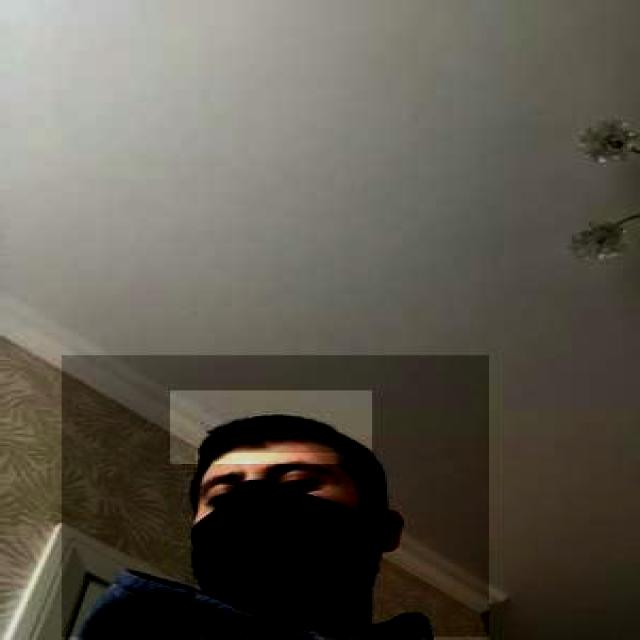face_mask: (193, 452, 368, 618)
head_nohelmet: (170, 390, 372, 464)
person: (60, 356, 489, 638)
